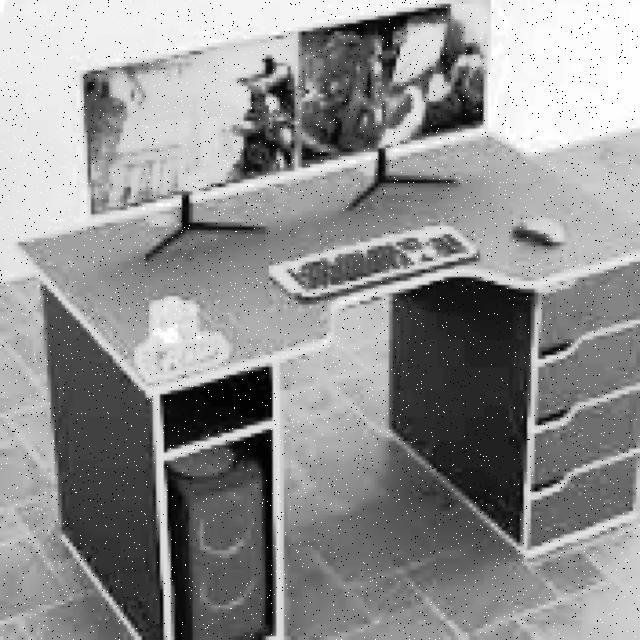table: (11, 121, 640, 640)
